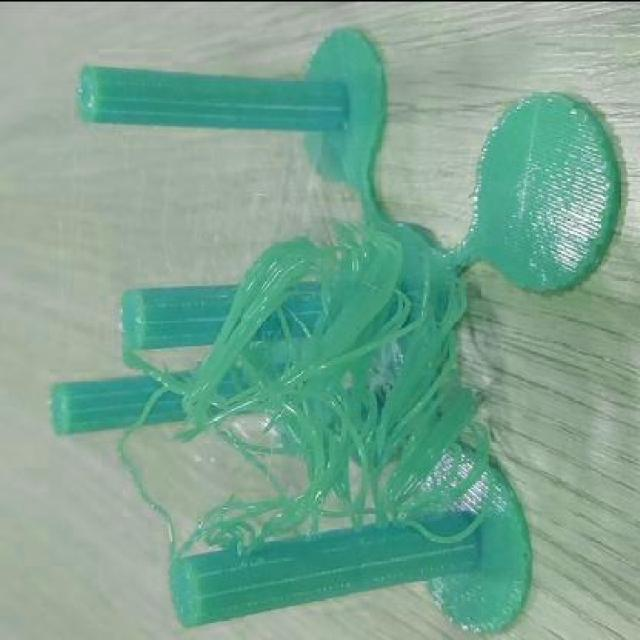spaghetti: (116, 217, 493, 561)
